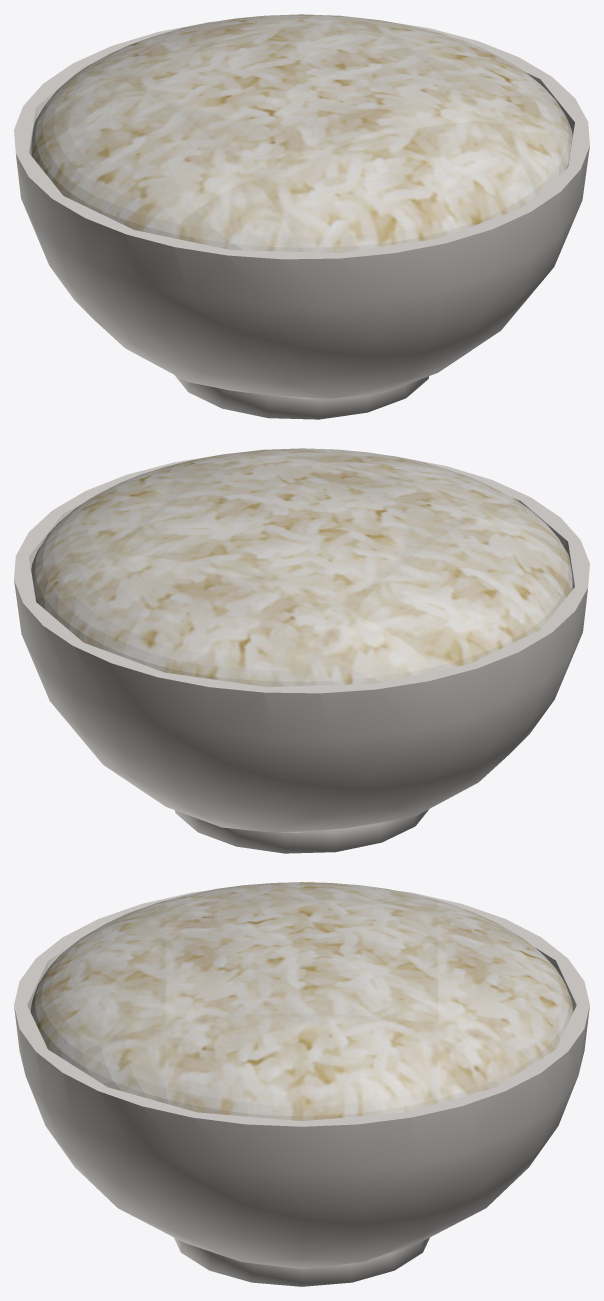
The model's file is sweethome3d-contributions-rice-bowl.glb.
3 renders of one model, top to bottom at view 1: azimuth 30°, elevation 25°; view 2: azimuth 150°, elevation 25°; view 3: azimuth 270°, elevation 25°, orthographic.
Visible parts, largest first — view 1: Sphere_1, Boolean_3, Cylinder_1; view 2: Sphere_1, Boolean_3, Cylinder_1; view 3: Sphere_1, Boolean_3, Cylinder_1.
Part boxes in pixels (left/top/right/bottom): Sphere_1: left=31, top=14, right=572, bottom=252; Boolean_3: left=14, top=21, right=589, bottom=399; Cylinder_1: left=174, top=375, right=428, bottom=419; Sphere_1: left=31, top=448, right=572, bottom=686; Boolean_3: left=14, top=455, right=589, bottom=833; Cylinder_1: left=175, top=809, right=429, bottom=853; Sphere_1: left=30, top=882, right=573, bottom=1121; Boolean_3: left=14, top=890, right=589, bottom=1269; Cylinder_1: left=174, top=1237, right=429, bottom=1286.
Bounding box in the file's own units: 11 × 6.01 × 11.
Materials: 2 (1 with a texture image).
